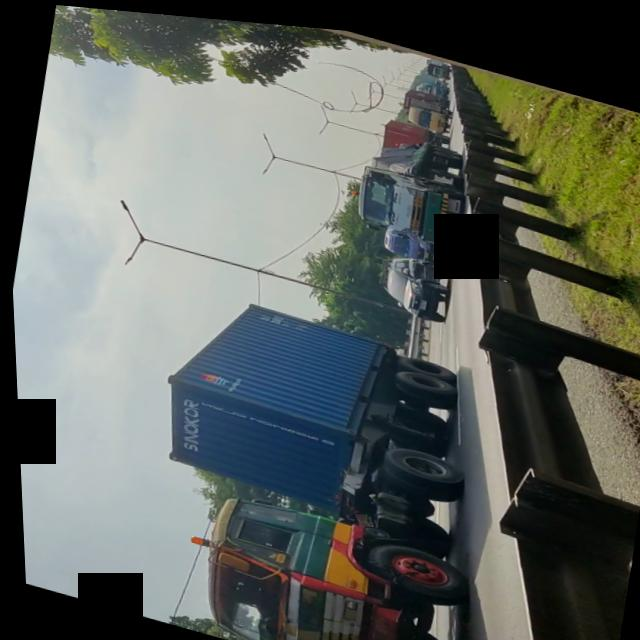Golongan I: (372, 237, 459, 322)
Golongan IV: (161, 288, 519, 640)
